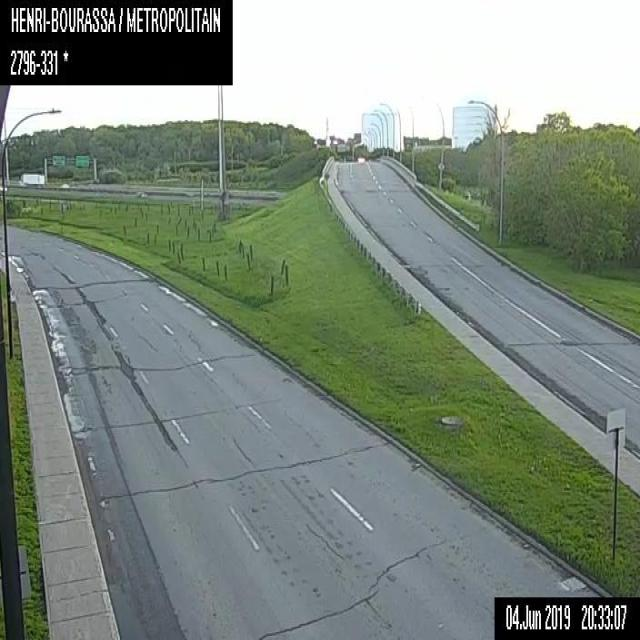vehicle: (18, 173, 44, 185)
